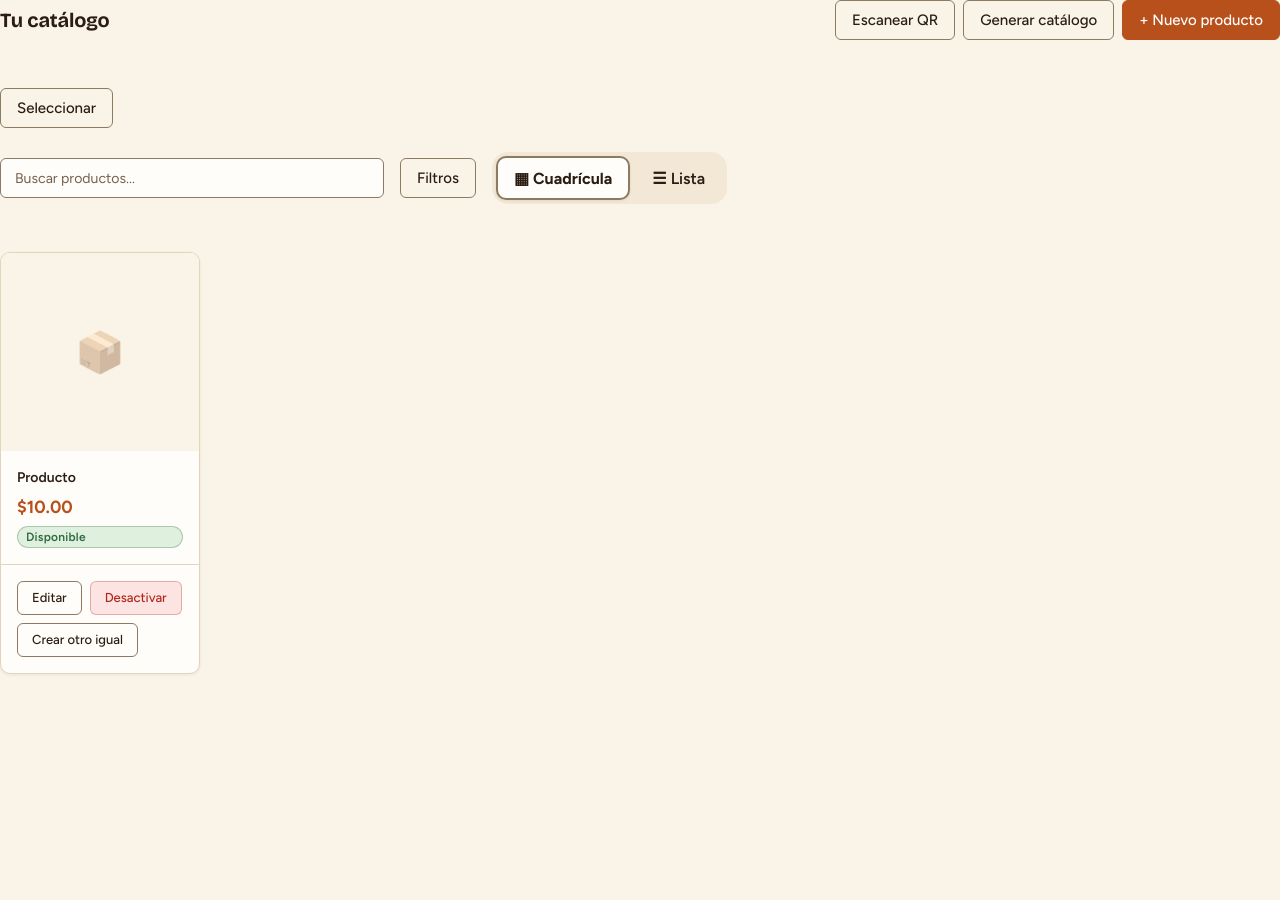
Scenario: ProductCatalogView — panel de filtros › la insignia y los chips reflejan los filtros activos
The image size is (1280, 900).
Click the button "Filtros" at coordinates (438, 178), box [400,158,476,198]
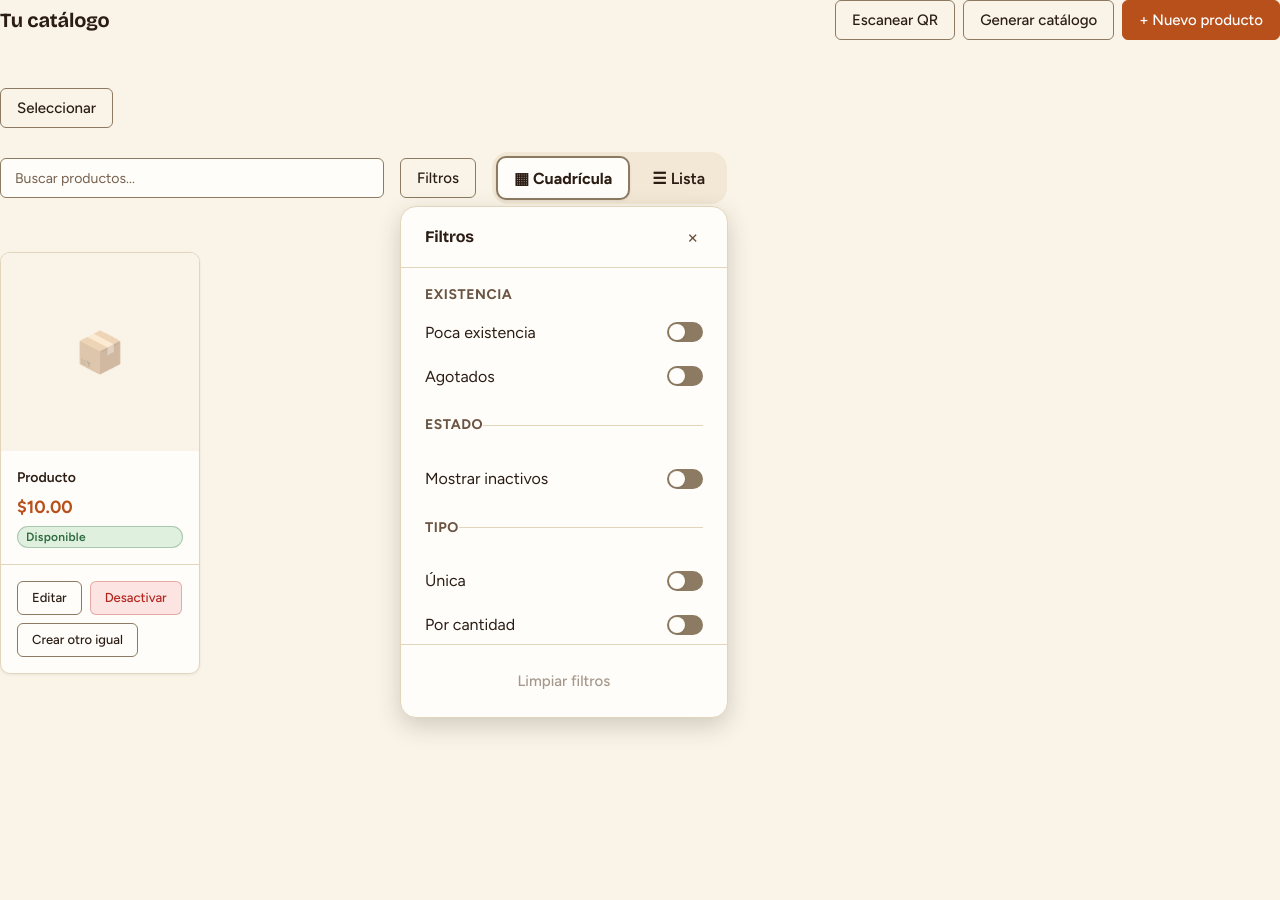
Click the checkbox labelled "Agotados" at coordinates (460, 376), box [425,367,495,386]
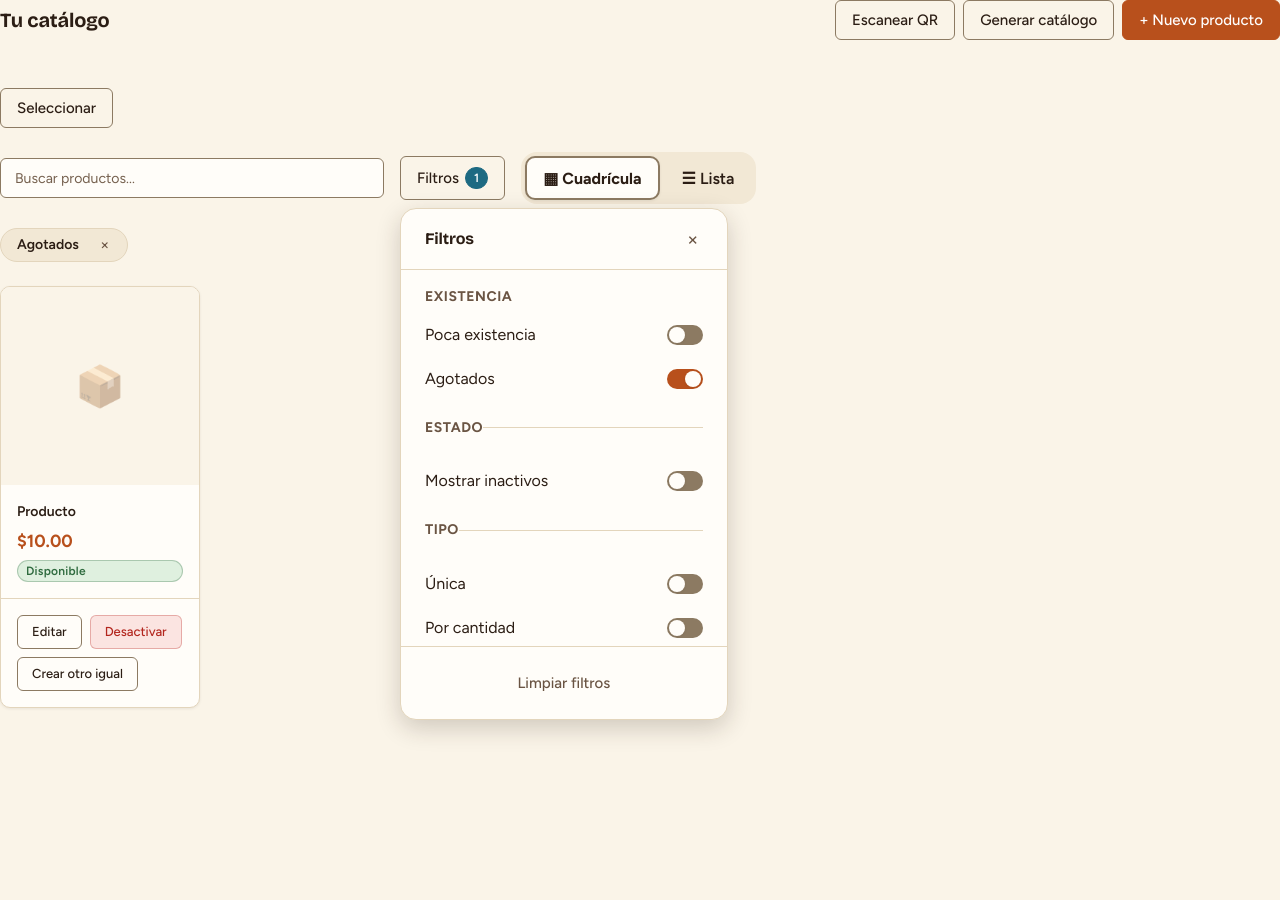
Click the checkbox labelled "Única" at coordinates (445, 583), box [425,574,466,593]
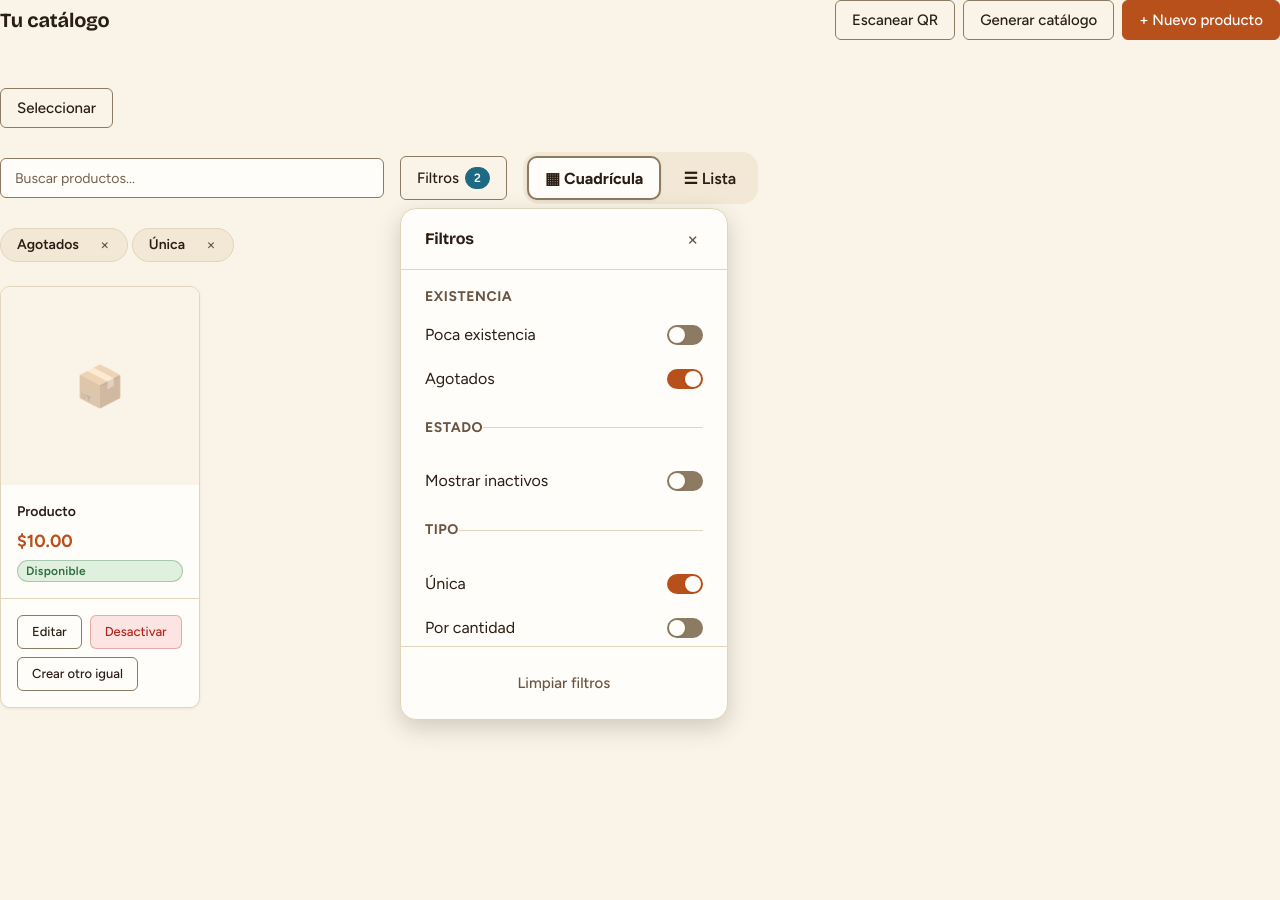
Expected: the text "2" is shown, [465,167,490,189]
Expected: the list items read "Agotados×", "Única×", in this order, [0,228,128,262]; [132,228,234,262]
